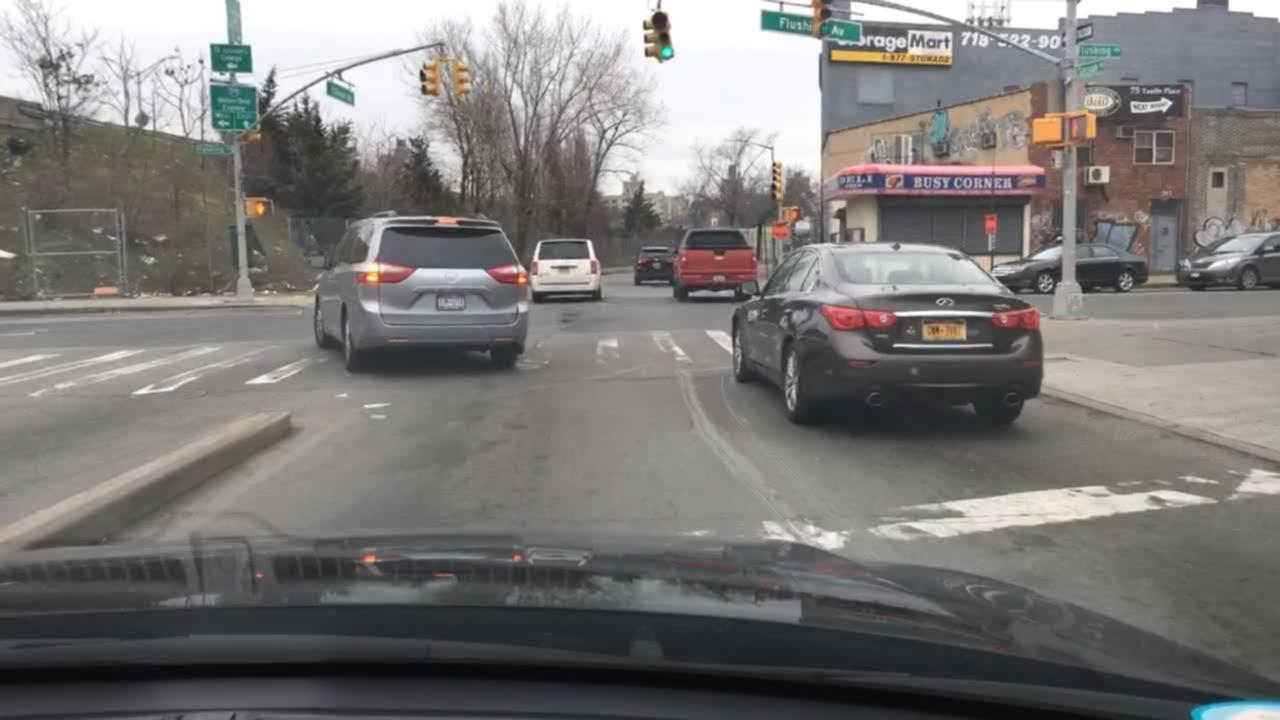Infiniti: (928, 292, 965, 311)
